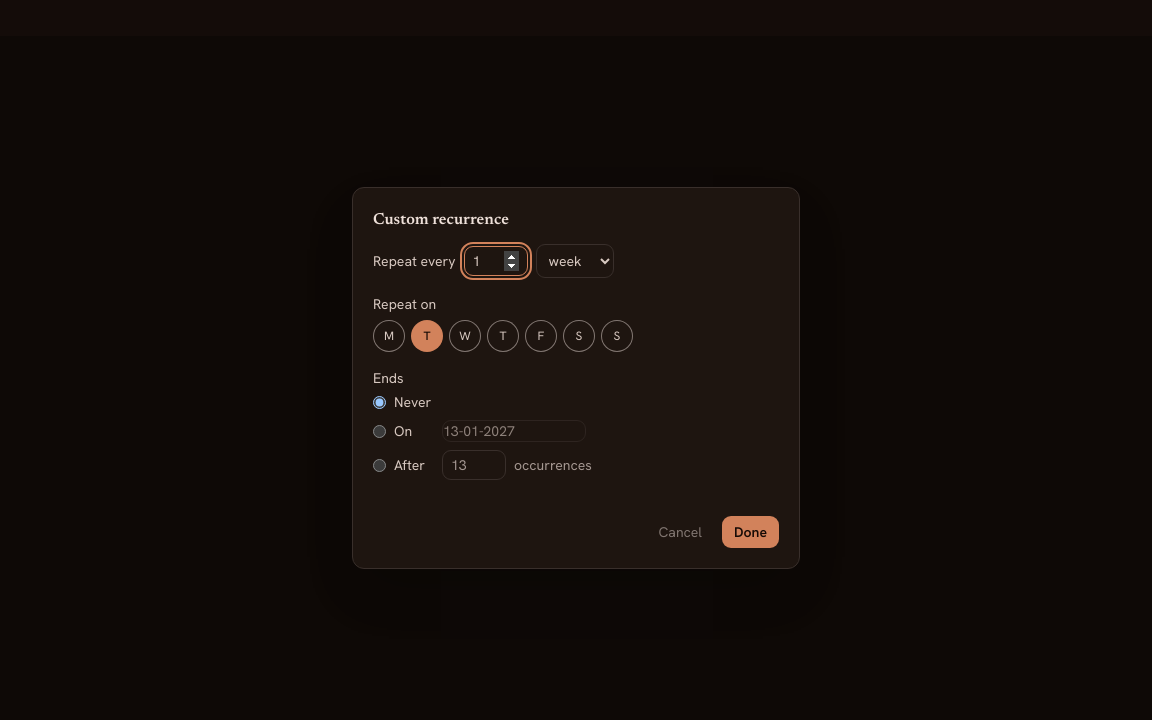
CustomRecurrenceDialog › the unit's plural follows the interval
Replace the text in the number field labelled "Repeat every" with "2" at (496, 261), box [464, 246, 528, 276]
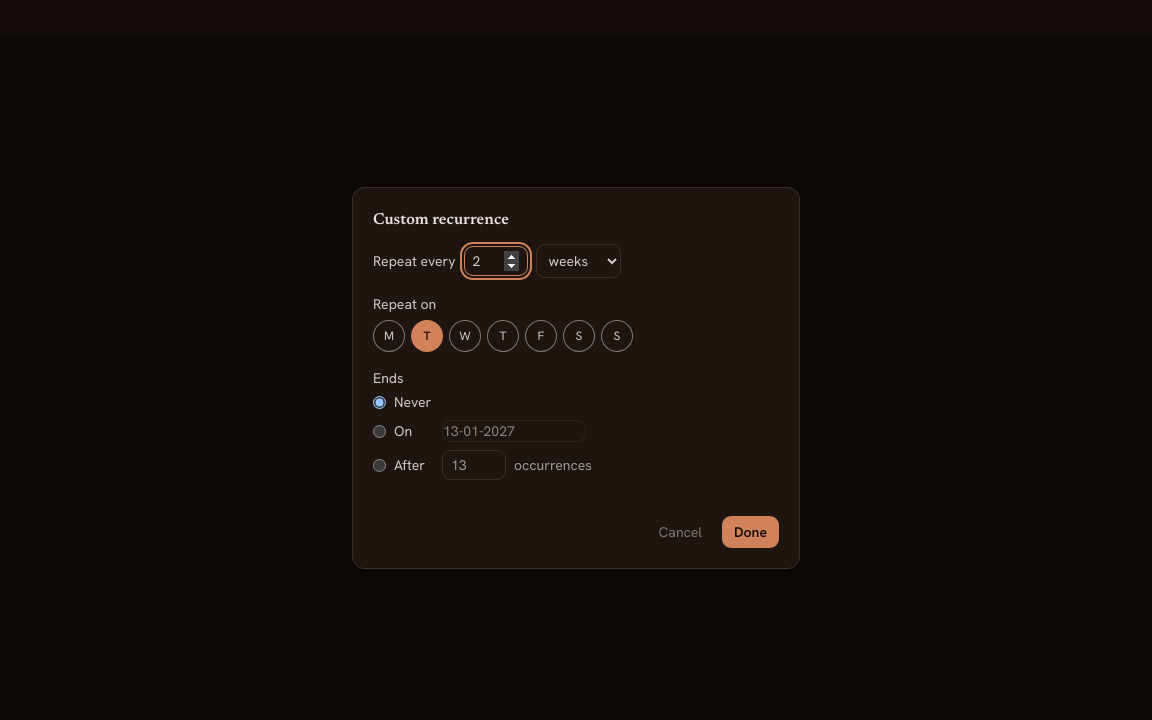
Replace the text in the number field labelled "Repeat every" with "100" at (496, 261), box [464, 246, 528, 276]
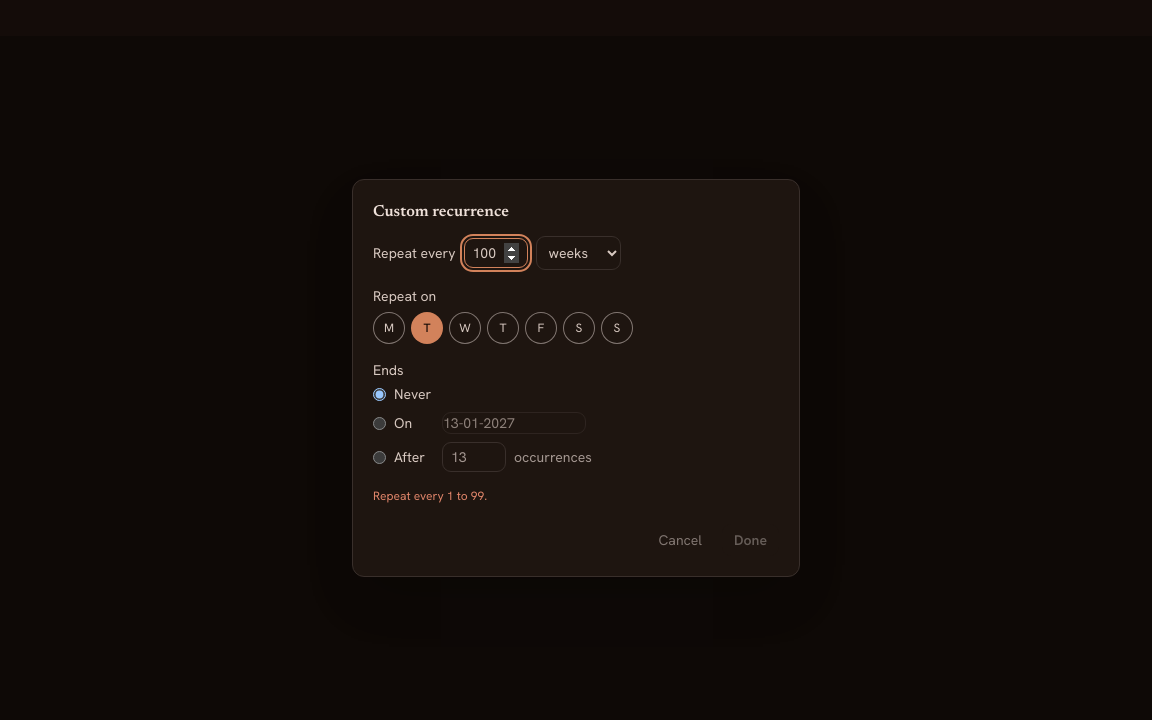
Result: the text "Repeat every 1 to 99." is shown at [373, 488, 487, 504]
Result: the button "Done" is disabled at [722, 524, 779, 556]
